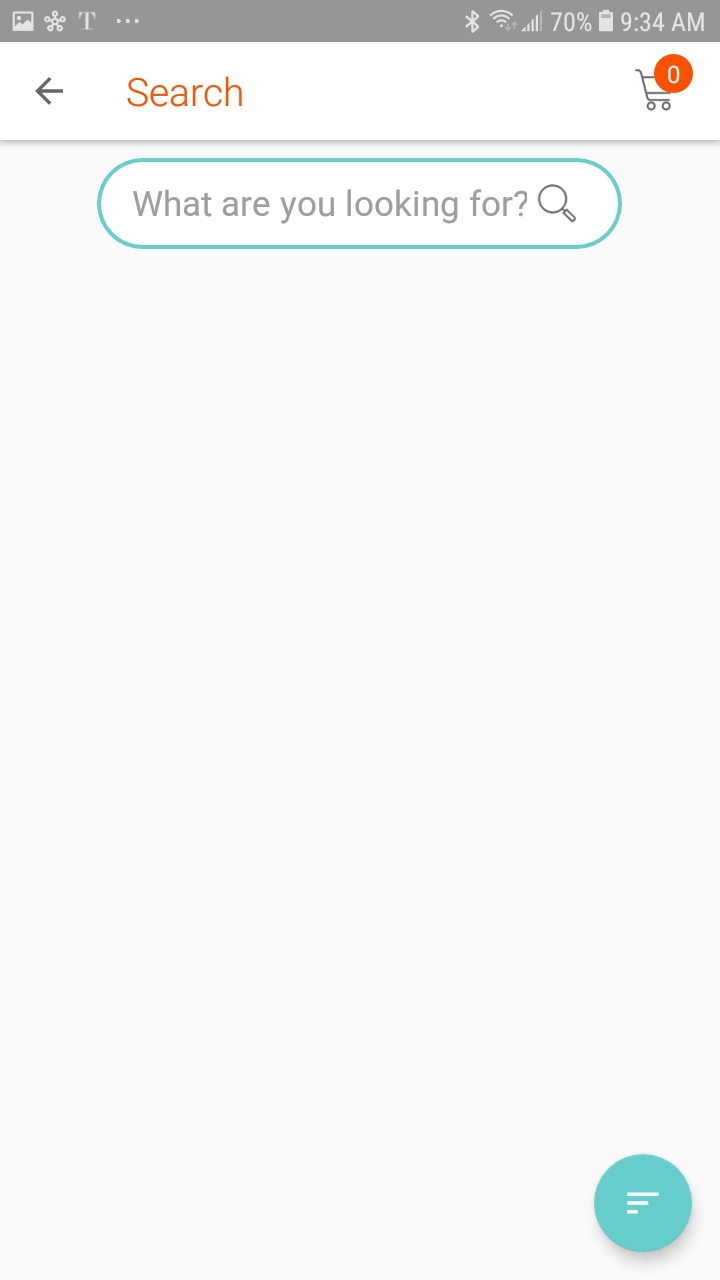EditText: (98, 158, 623, 250)
Icon: (593, 1154, 692, 1253), (635, 54, 694, 112), (537, 185, 577, 224), (36, 78, 64, 106)
Text: (133, 190, 528, 225), (128, 77, 243, 109)
UpperTaskBar: (2, 1, 720, 43)
